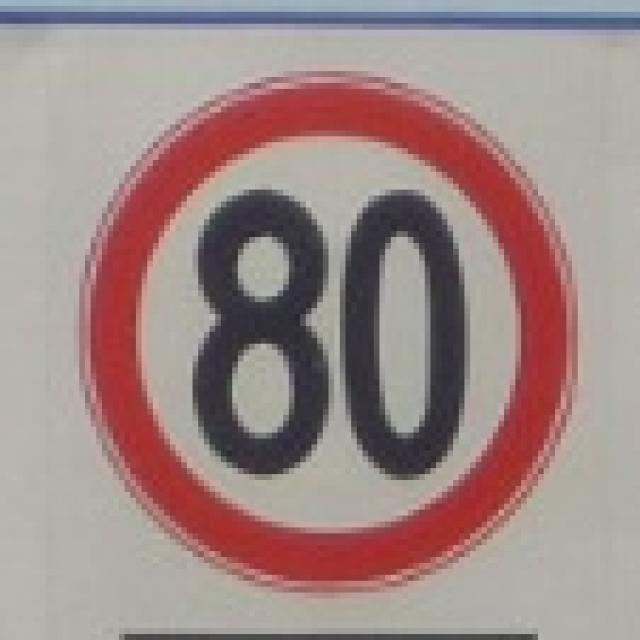Speed Limit -80-: (185, 181, 470, 474)
